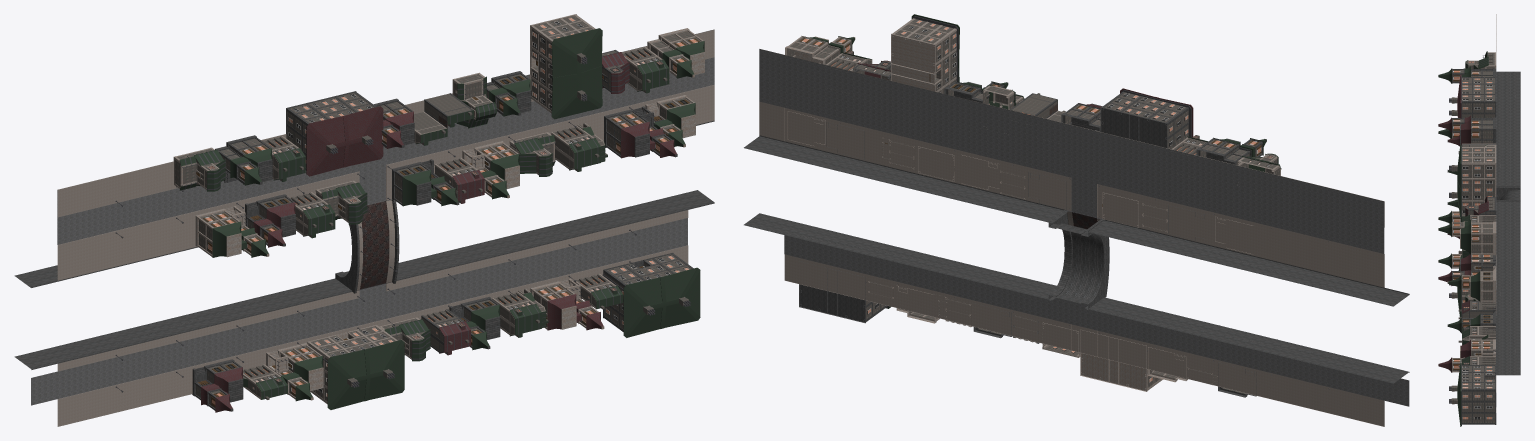
File: StreetSet001.fbx
The picture shows the model from 3 angles, left to right: view 1: azimuth 30°, elevation 25°; view 2: azimuth 150°, elevation 25°; view 3: azimuth 270°, elevation 25°; orthographic projection. The views are drawn at different scales.
Visible parts, largest first — view 1: Bridge.003; view 2: Bridge.003; view 3: Bridge.003.
Boxes of the visible parts, x1,y1,x2,y2 form: Bridge.003: (14, 14, 714, 426); Bridge.003: (744, 14, 1409, 426); Bridge.003: (1438, 14, 1520, 426).
Size of the model in its own units: 18100 by 8003 by 2587.
